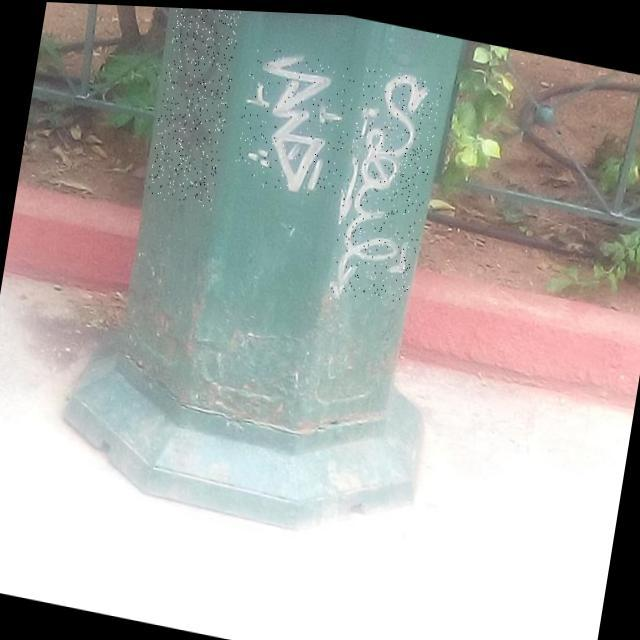-: (329, 61, 443, 305), (230, 42, 358, 200), (146, 5, 245, 208)
